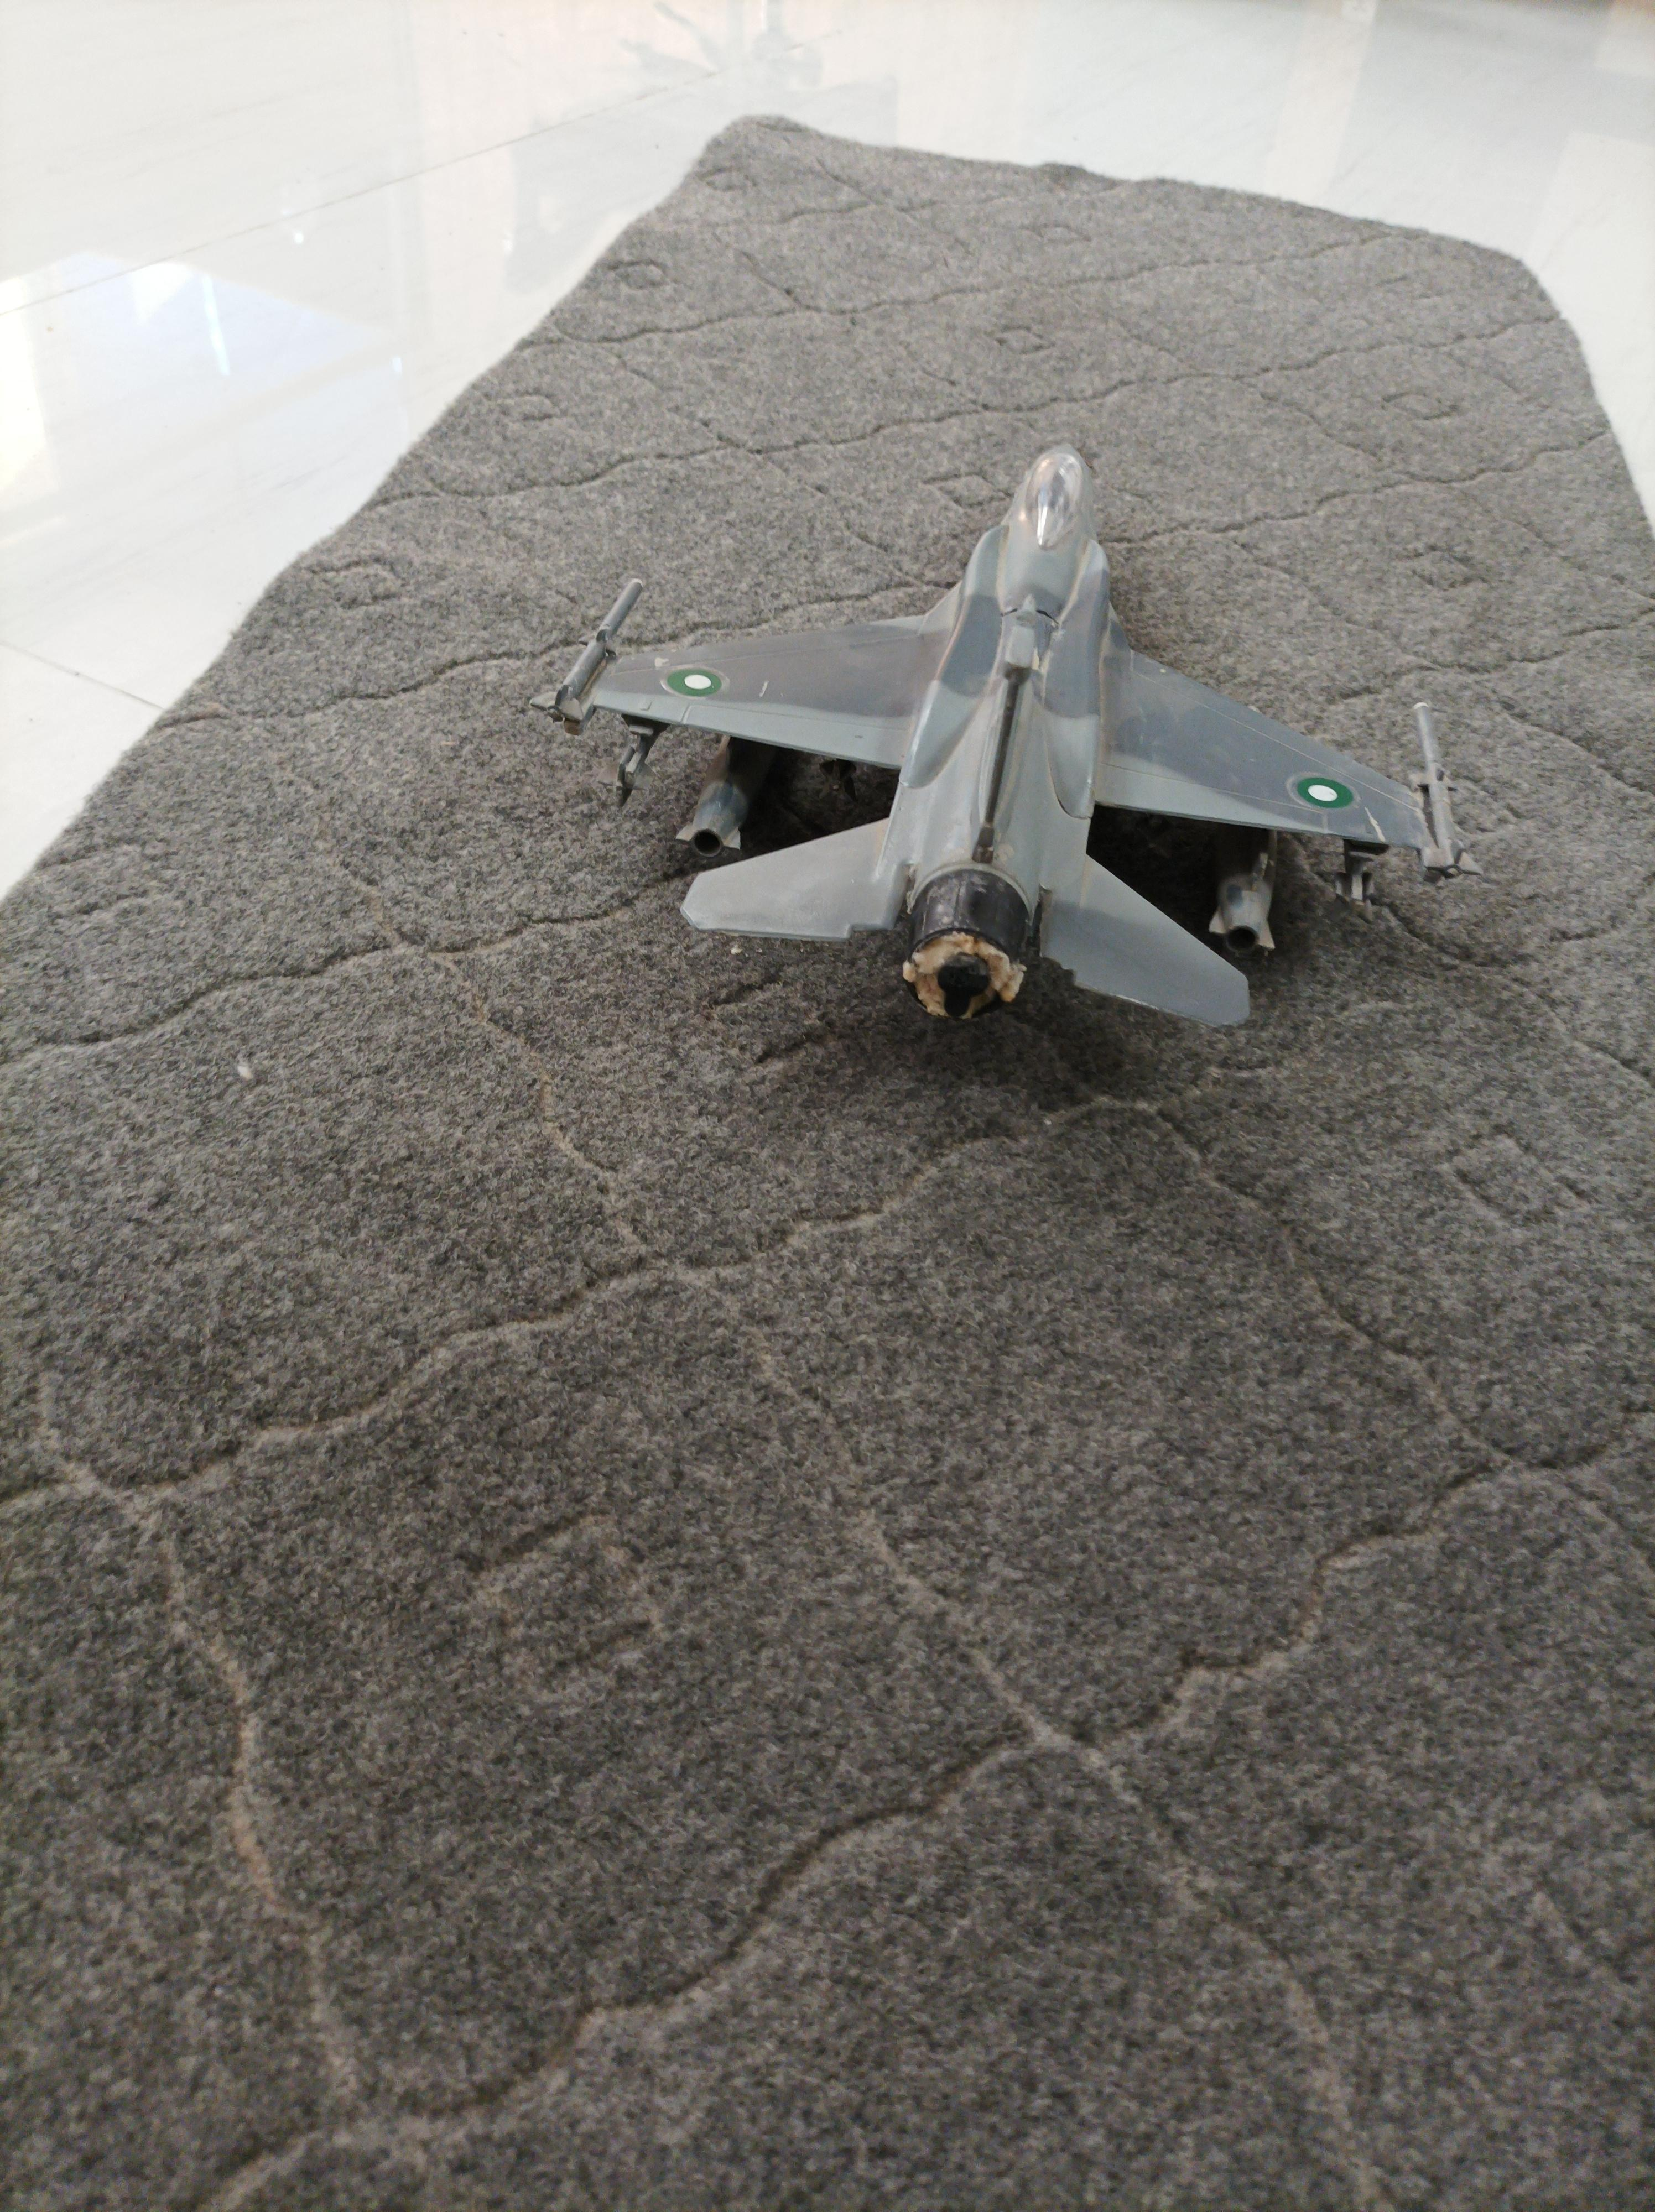Airplane: (553, 412, 1479, 1084)
